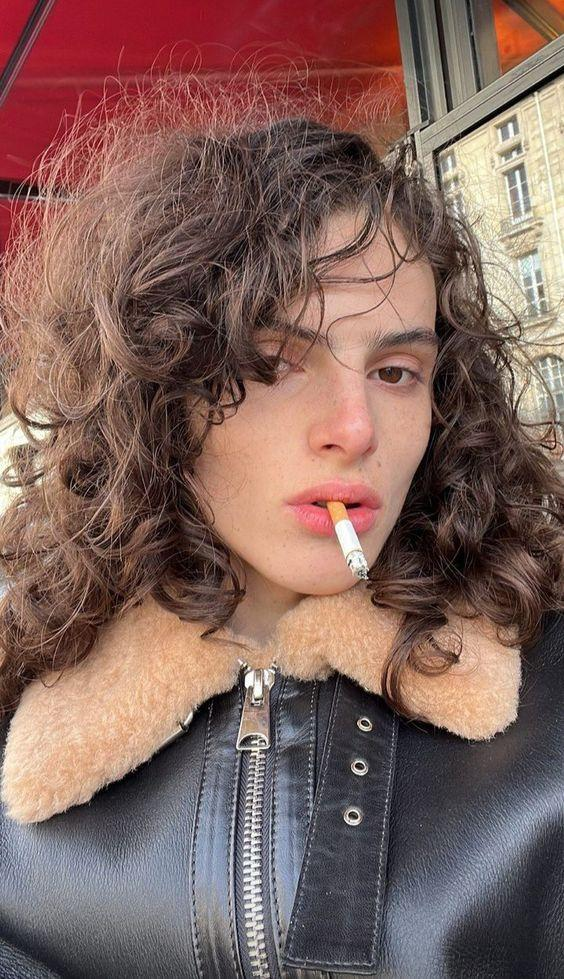cigarette: (326, 500, 370, 580)
